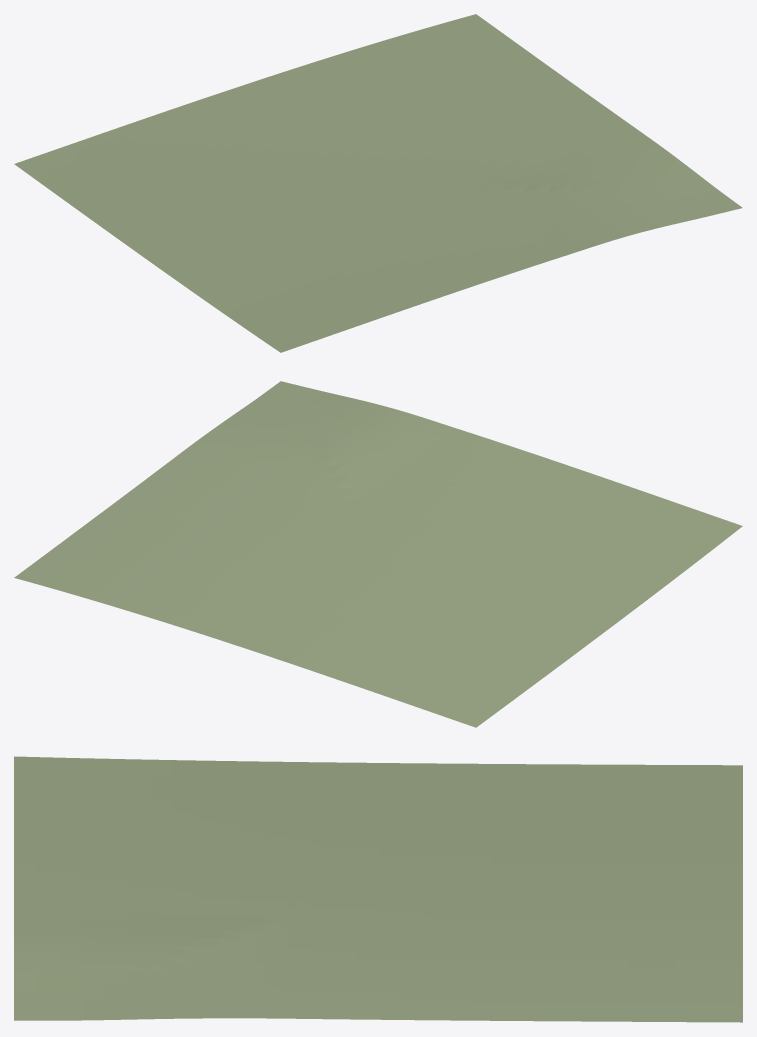
Rendered from valley-1-11.glb.
3 views of the same model, one above another, from view 1: azimuth 30°, elevation 25°; view 2: azimuth 150°, elevation 25°; view 3: azimuth 270°, elevation 25° (orthographic). The views are drawn at different scales.
Parts seen in each view (by area): view 1: valley-1-11; view 2: valley-1-11; view 3: valley-1-11.
Boxes of the visible parts, x1,y1,x2,y2 form: valley-1-11: (14, 14, 742, 352); valley-1-11: (14, 381, 742, 727); valley-1-11: (14, 756, 742, 1022).
Size of the model in its own units: 256 by 21.3 by 256.
